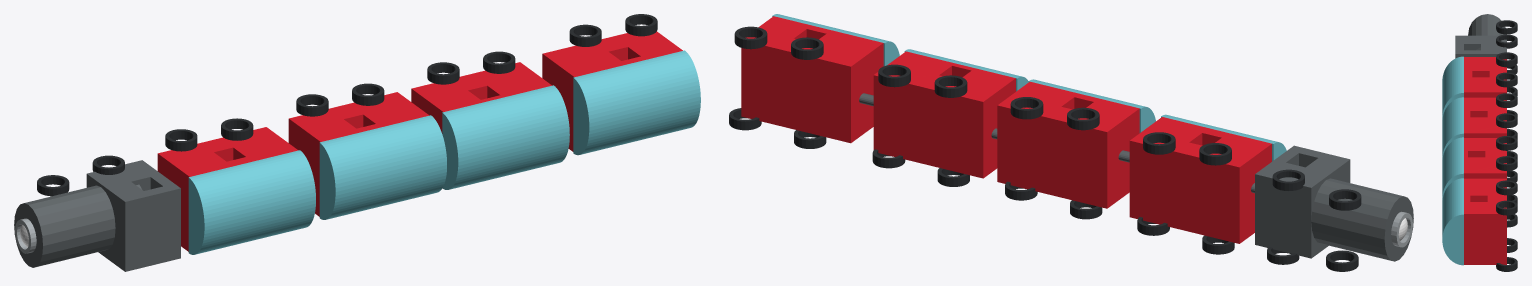
File: train.obj
The picture shows the model from 3 angles, left to right: view 1: azimuth 30°, elevation 25°; view 2: azimuth 150°, elevation 25°; view 3: azimuth 270°, elevation 25°; orthographic projection. The views are drawn at different scales.
Visible parts, largest first — view 1: group_0_7720667, group_0_15277357, group_0_6383466, group_0_2829873, group_0_10988977; view 2: group_0_15277357, group_0_6383466, group_0_2829873, group_0_7720667, group_0_10988977; view 3: group_0_15277357, group_0_7720667, group_0_2829873, group_0_6383466.
Part boxes in pixels (box(x1,y1,x2,y2)): group_0_7720667: box(188, 50, 700, 254); group_0_15277357: box(157, 31, 682, 251); group_0_6383466: box(14, 160, 180, 271); group_0_2829873: box(37, 14, 657, 196); group_0_10988977: box(15, 218, 36, 253); group_0_15277357: box(741, 16, 1271, 243); group_0_6383466: box(859, 93, 1413, 261); group_0_2829873: box(729, 26, 1361, 271); group_0_7720667: box(772, 14, 1286, 161); group_0_10988977: box(1391, 211, 1412, 247); group_0_15277357: box(1464, 57, 1506, 264); group_0_7720667: box(1442, 56, 1463, 265); group_0_2829873: box(1496, 20, 1517, 271); group_0_6383466: box(1455, 14, 1506, 58).
Size of the model in its own units: 234 by 35 by 35.
